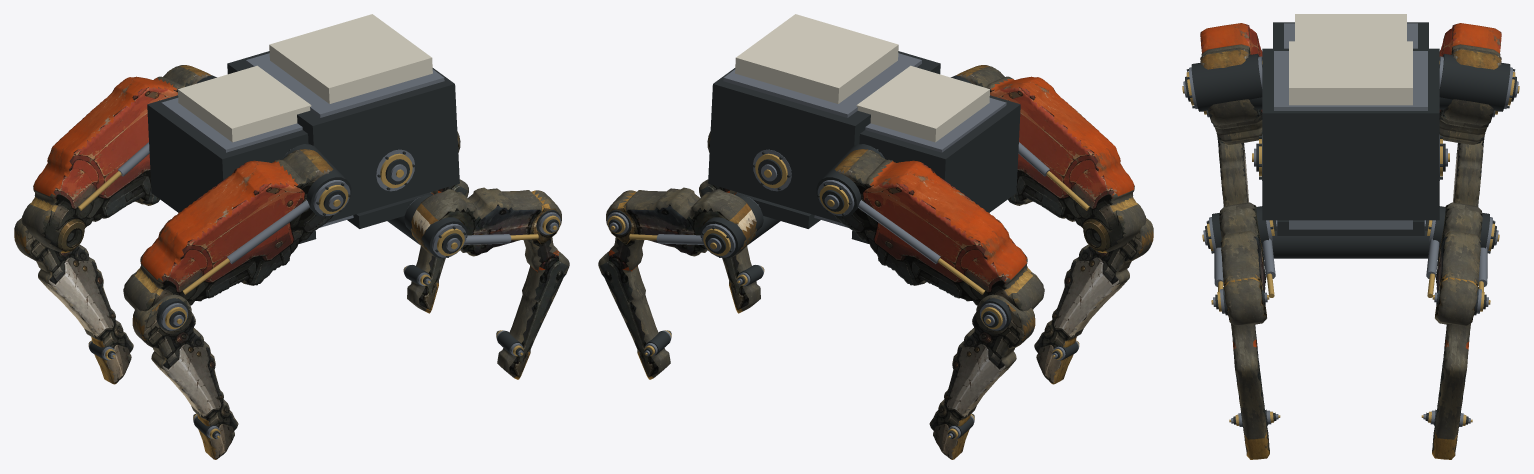
The model's file is warden-broad-body-walker-v2.glb.
3 views of the same model, side by side, from view 1: azimuth 30°, elevation 25°; view 2: azimuth 150°, elevation 25°; view 3: azimuth 270°, elevation 25° (orthographic). The views are drawn at different scales.
Parts seen in each view (by area): view 1: Chassis, hn upper, hf upper, fn upper, hn lower, hf lower, fn lower, ff lower; view 2: Chassis, hf upper, hn upper, ff upper, hf lower, hn lower, ff lower, fn lower; view 3: Chassis, hf upper, hn upper, ff upper, fn upper, ff lower, fn lower, fn socket, hf lower, hn lower.
Boxes of the visible parts, x1,y1,x2,y2 form: Chassis: (147,14,459,244); hn upper: (123,144,351,311); hf upper: (21,65,216,252); fn upper: (404,187,561,258); hn lower: (132,294,238,459); hf lower: (14,218,133,384); fn lower: (496,210,569,379); ff lower: (403,179,468,313); Chassis: (708,14,1020,244); hf upper: (816,144,1044,311); hn upper: (951,65,1146,252); ff upper: (606,187,763,258); hf lower: (929,294,1035,459); hn lower: (1034,218,1153,384); ff lower: (598,210,671,379); fn lower: (699,179,764,313); Chassis: (1252,14,1449,235); hf upper: (1439,23,1519,144); hn upper: (1182,23,1262,144); ff upper: (1424,202,1499,325); fn upper: (1202,202,1277,325); ff lower: (1421,287,1490,459); fn lower: (1211,287,1280,459); fn socket: (1262,226,1439,258); hf lower: (1437,110,1499,264); hn lower: (1202,110,1264,264).
Bounding box in the file's own units: 6.27 × 4.45 × 4.03.
Materials: 13 (8 with a texture image).
